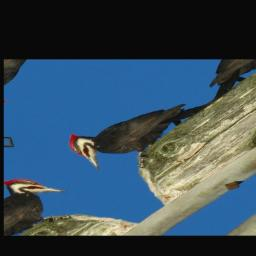Woodpecker: (49, 75, 223, 181)
